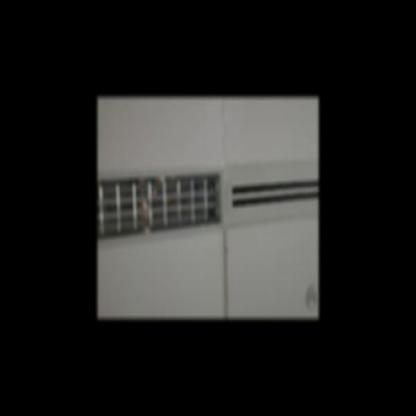light_off: (97, 138, 224, 265)
